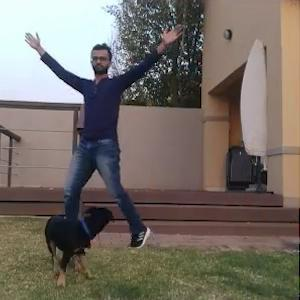takeoff: (25, 12, 191, 255)
